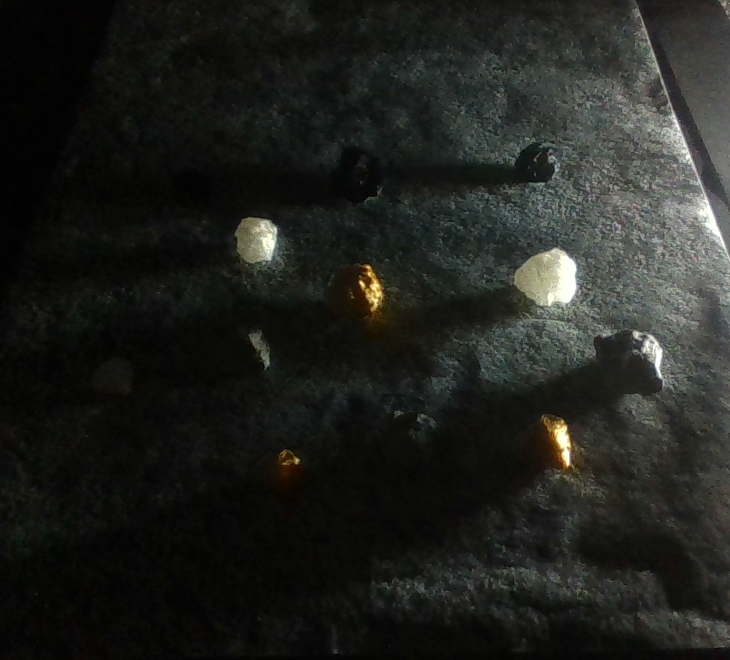anorthosite: (514, 248, 577, 307), (234, 217, 277, 264), (91, 355, 135, 396)
basalt: (331, 146, 387, 204), (515, 142, 557, 185), (174, 168, 209, 200)
metal: (512, 413, 571, 471), (326, 263, 383, 320), (256, 449, 303, 495)
regolith: (593, 329, 664, 399), (378, 409, 439, 470), (218, 323, 271, 373)
